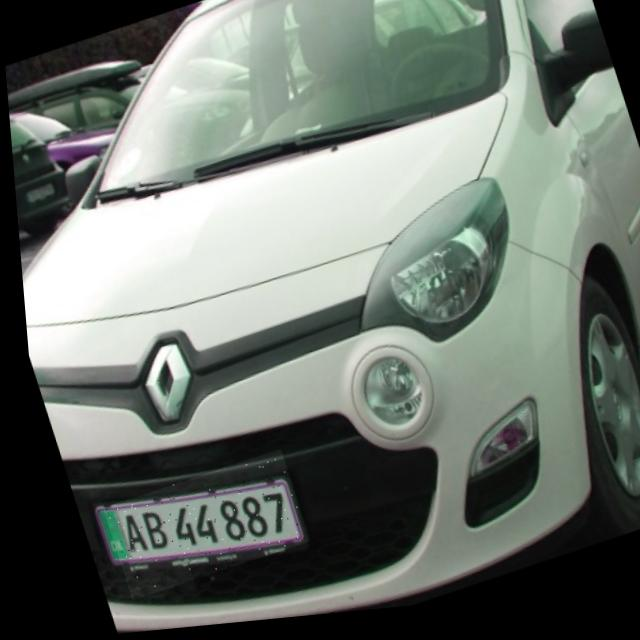license_plate: (91, 451, 303, 603)
